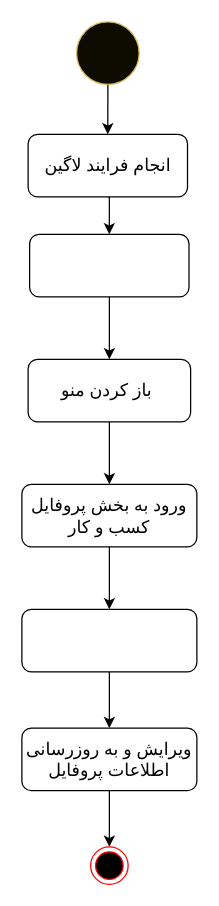
This 219x906 diagram has some shape labels left out. The centre of each missing label's shape, as x and y in pixels:
باز شدن داشبور كاري من: the point at 108,265
مشاهده پروفایل کسب و کار: the point at 109,640
